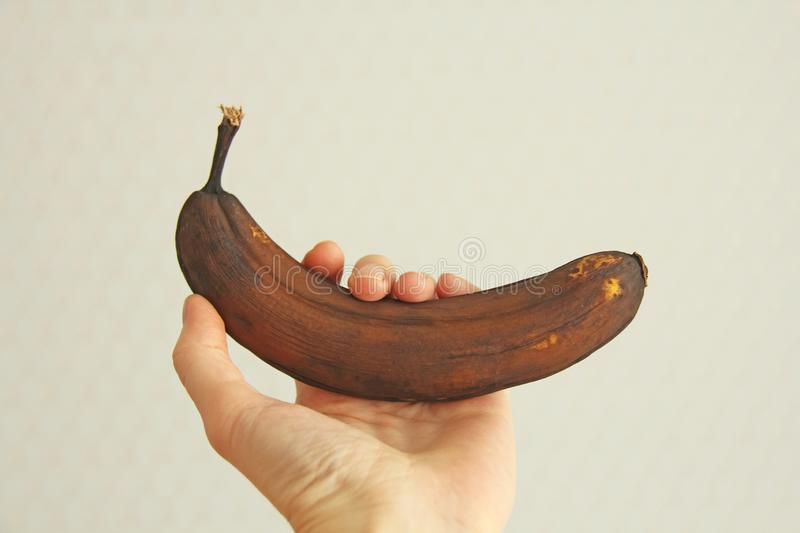looks_defective: (80, 86, 715, 414)
